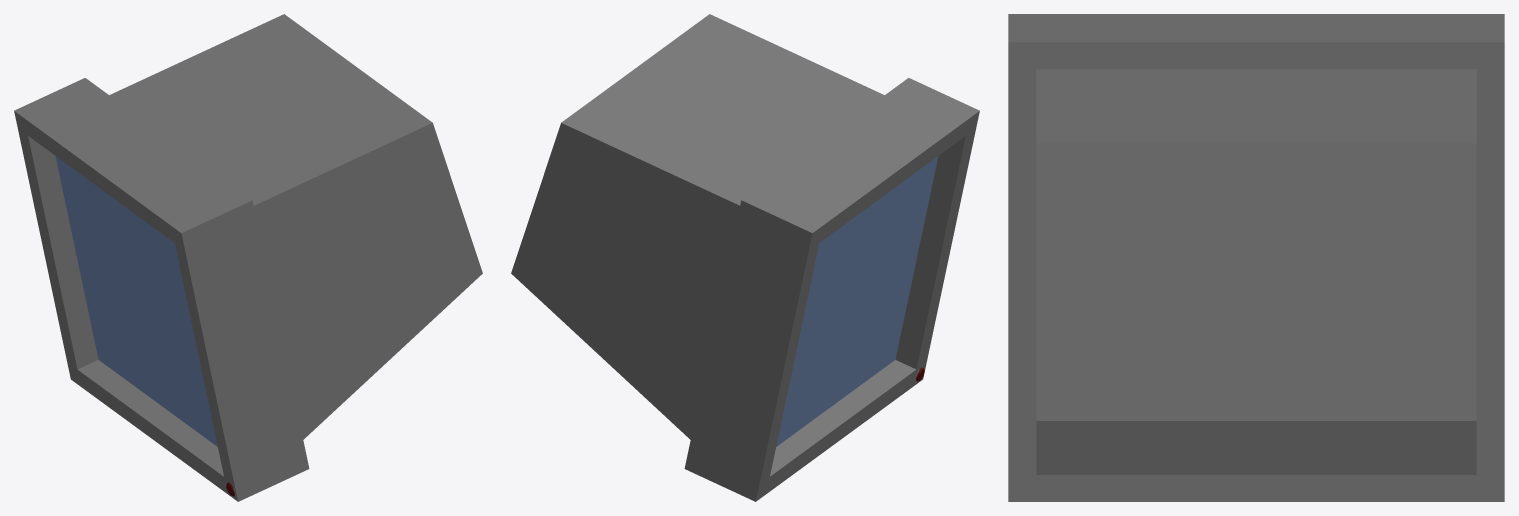
3 renders of one model, left to right at view 1: azimuth 30°, elevation 25°; view 2: azimuth 150°, elevation 25°; view 3: azimuth 270°, elevation 25°, orthographic. The views are drawn at different scales.
Parts seen in each view (by area): view 1: Cube.010; view 2: Cube.010; view 3: Cube.010.
Boxes of the visible parts, bbox=[...] form: Cube.010: bbox=[14, 14, 482, 501]; Cube.010: bbox=[511, 14, 979, 501]; Cube.010: bbox=[1008, 14, 1504, 501].
Bounding box in the file's own units: 6.75 × 6.69 × 6.29.
